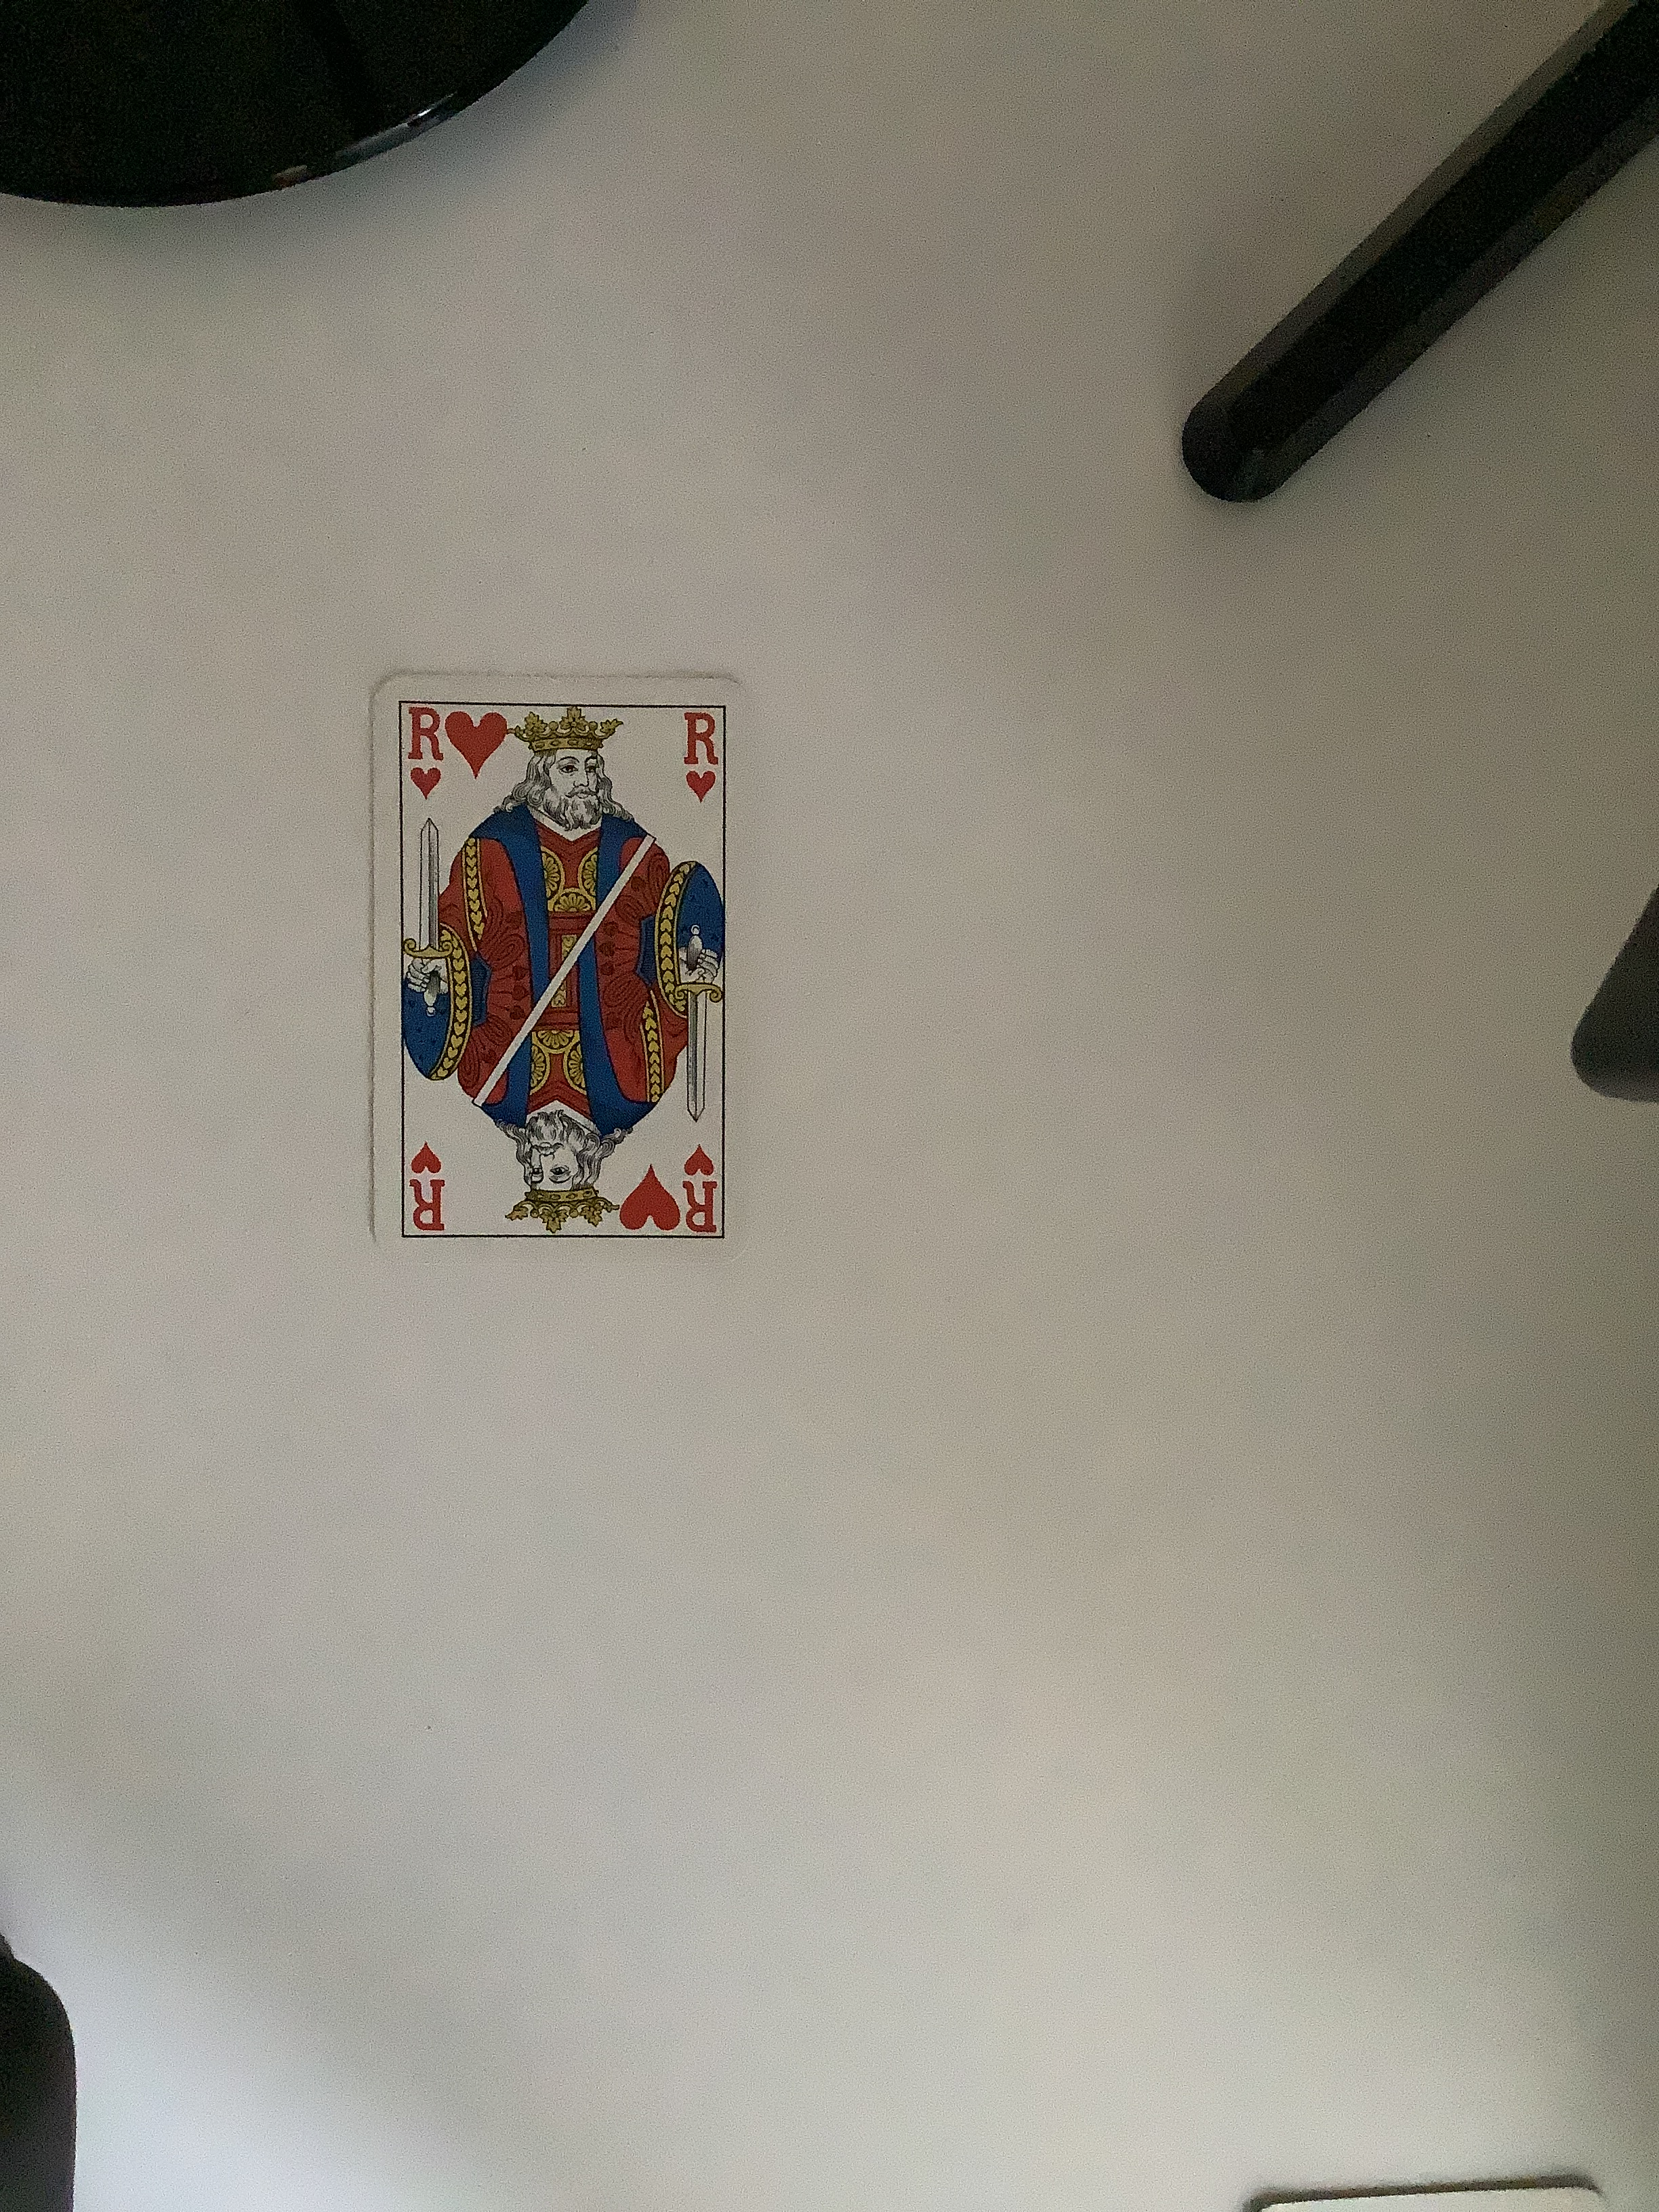♥ K: (331, 636, 784, 1287)
